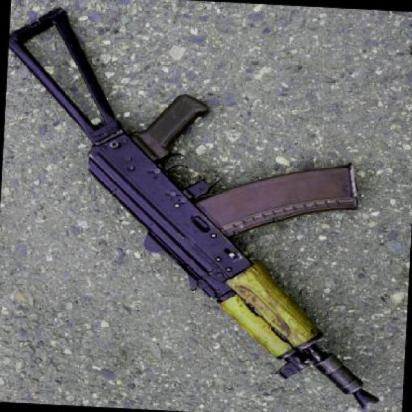Gun: (0, 21, 412, 408)
